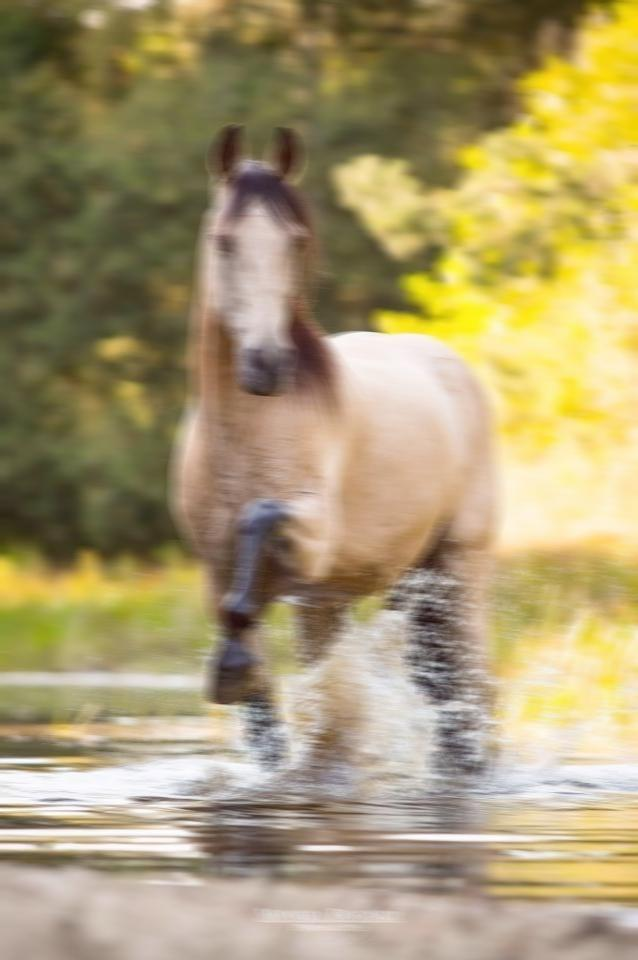horse: (153, 109, 517, 782)
